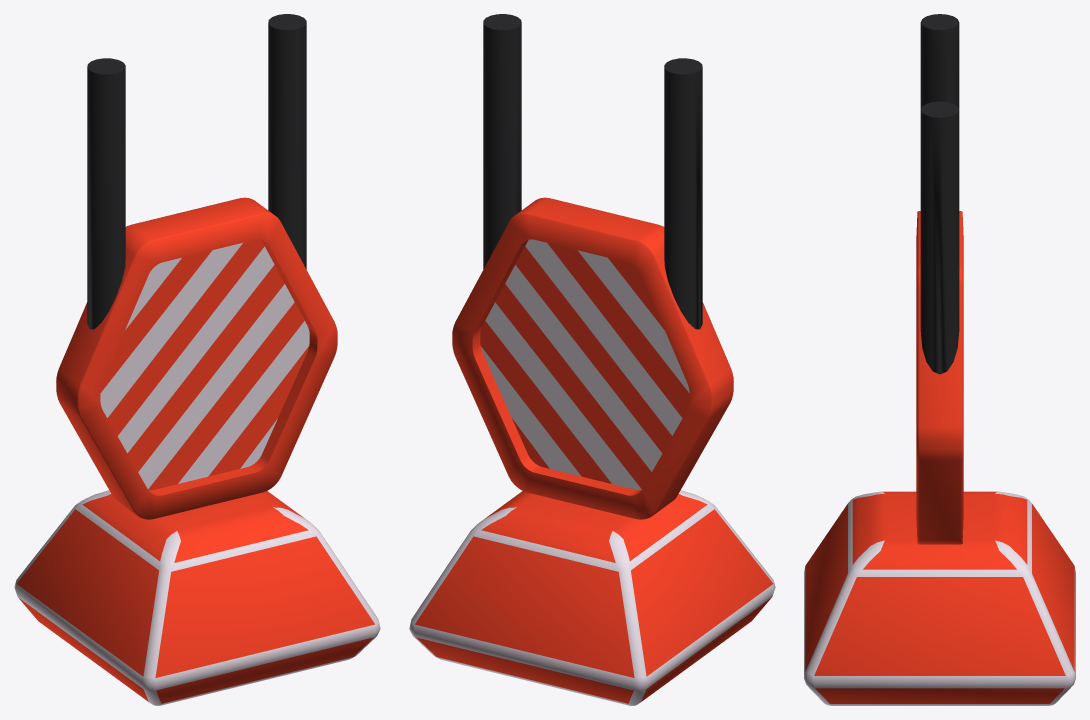
Rendered from 9_Manipulator.fbx.
3 renders of one model, left to right at view 1: azimuth 30°, elevation 25°; view 2: azimuth 150°, elevation 25°; view 3: azimuth 270°, elevation 25°, orthographic.
Visible parts, largest first — view 1: 9_Manipulator; view 2: 9_Manipulator; view 3: 9_Manipulator.
Boxes of the visible parts, <box> form: 9_Manipulator: <box>14,14,380,705</box>; 9_Manipulator: <box>409,14,775,705</box>; 9_Manipulator: <box>804,14,1075,705</box>.
Bounding box in the file's own units: 86.35 × 190 × 78.69.
